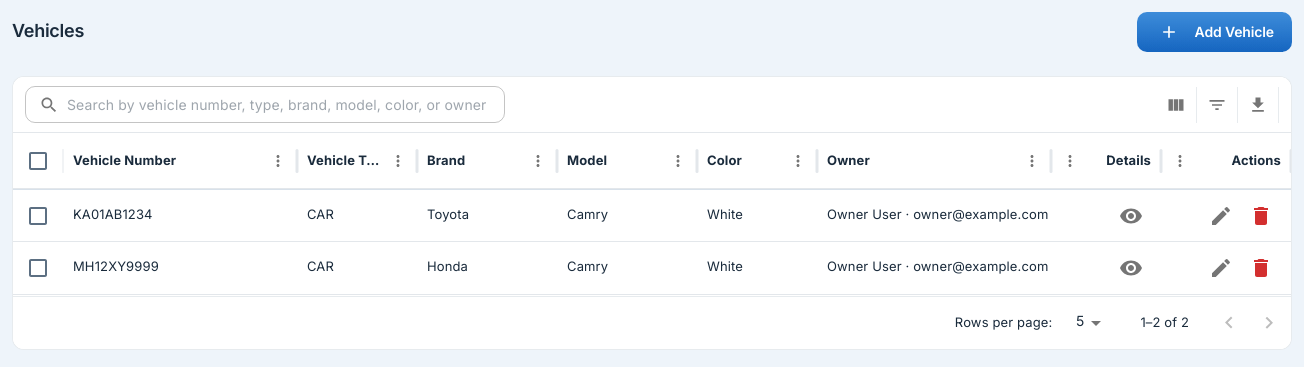
it: VehiclesPage › filters vehicles via search
The image size is (1304, 367).
Expected: the text "KA01AB1234" is shown, top-left (73, 207), bottom-right (153, 223)
Type "MH12" into the field with placeholder "Search by vehicle number, type, brand, model, color, or owner" at (286, 104), box top-left (67, 86), bottom-right (505, 123)
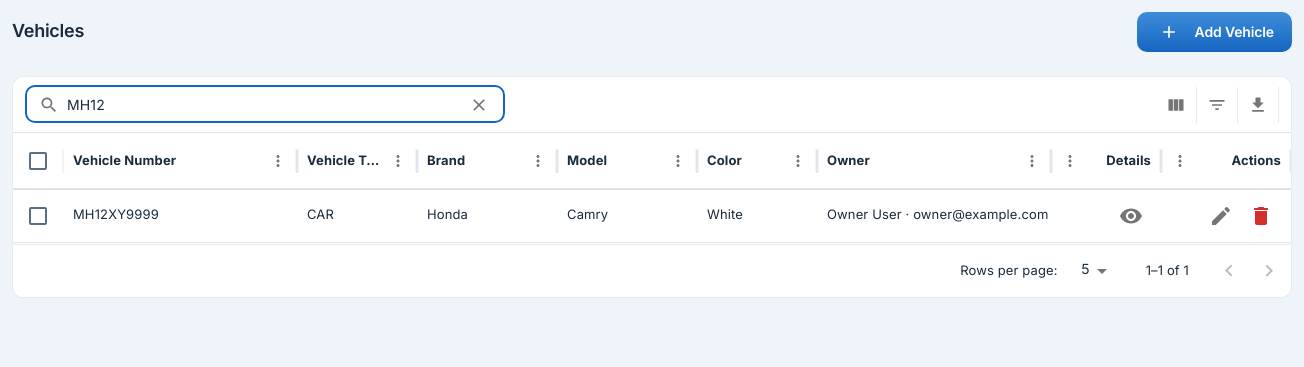
Expected: the text "MH12XY9999" is shown, top-left (73, 207), bottom-right (159, 223)
Expected: the text "KA01AB1234" is gone
